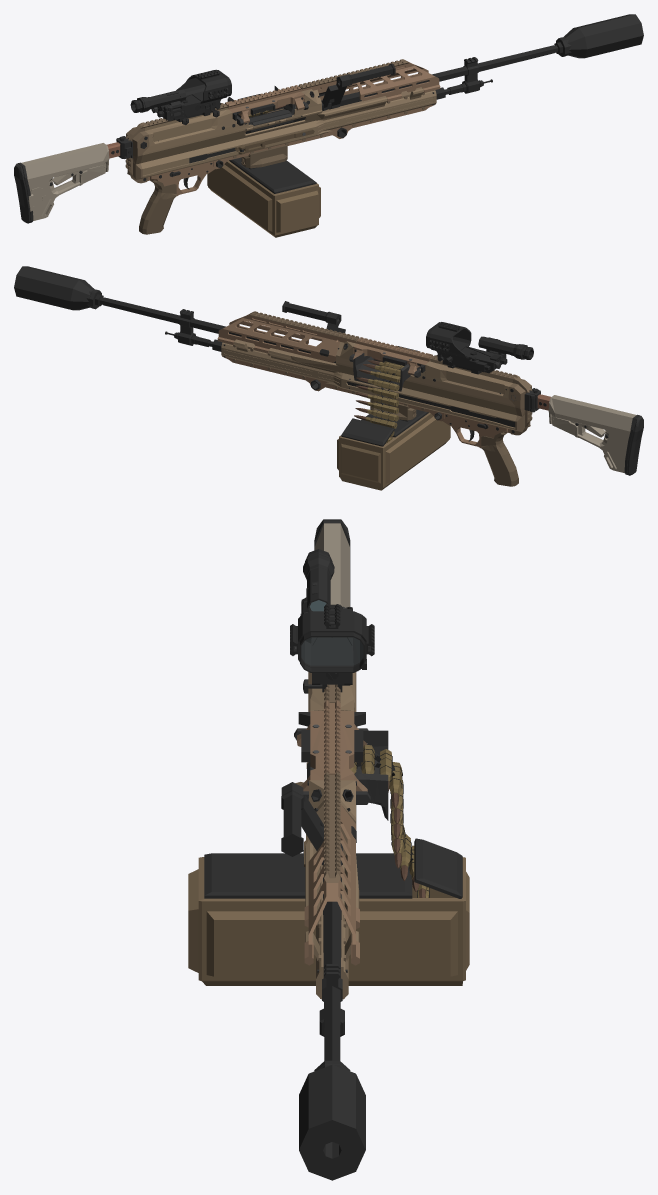
3 renders of one model, top to bottom at view 1: azimuth 30°, elevation 25°; view 2: azimuth 150°, elevation 25°; view 3: azimuth 270°, elevation 25°, orthographic. The views are drawn at different scales.
Visible parts, largest first — view 1: MG338_0, DCL-110_1; view 2: MG338_0, DCL-110_1; view 3: MG338_0, DCL-110_1.
Part boxes in pixels (x1,y1,x2,y2): MG338_0: (14,14,643,237); DCL-110_1: (130,69,231,124); MG338_0: (14,266,643,490); DCL-110_1: (426,322,533,374); MG338_0: (188,519,469,1180); DCL-110_1: (290,549,374,693).
Size of the model in its own units: 29.53 by 6.85 by 5.82.
